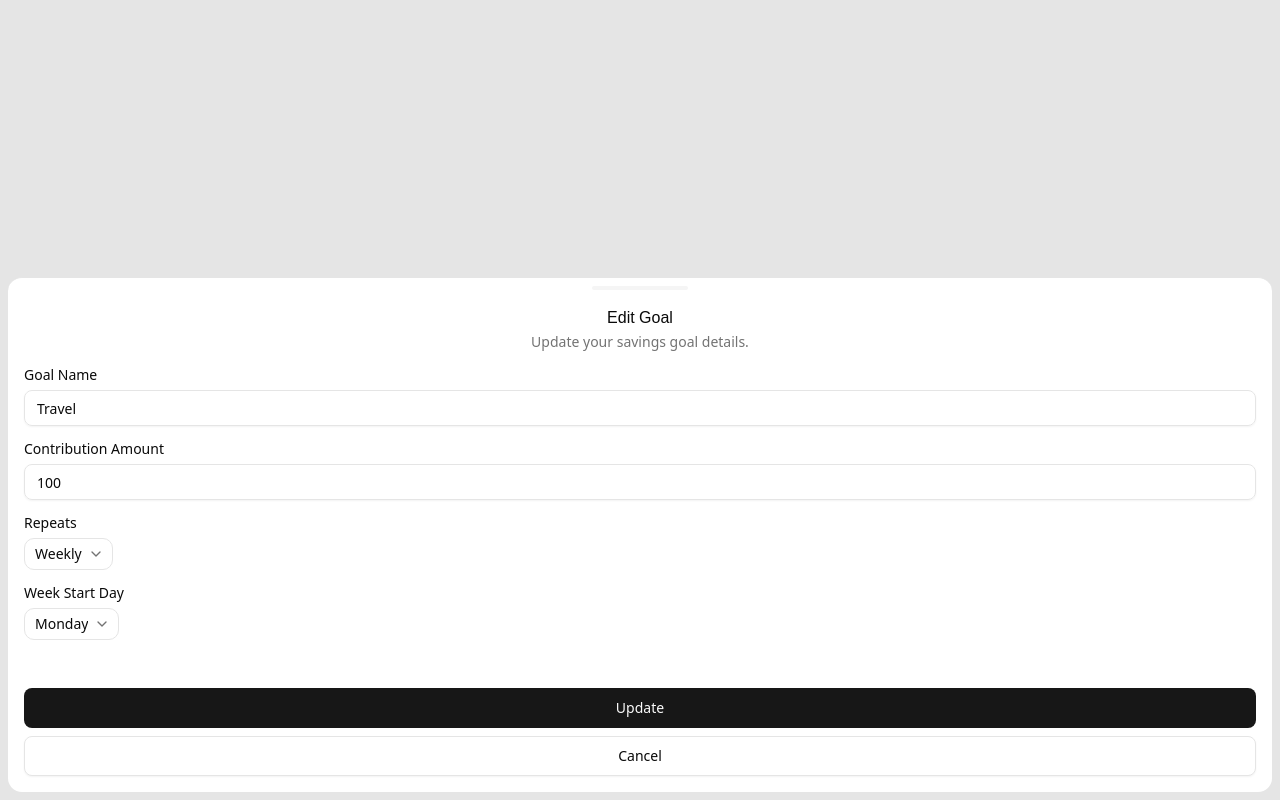
it: GoalDrawer › reports a validation failure instead of doing nothing
Step 1. Clear the field labelled "Goal Name" → (640, 408), box x1=24 y1=390 x2=1256 y2=426
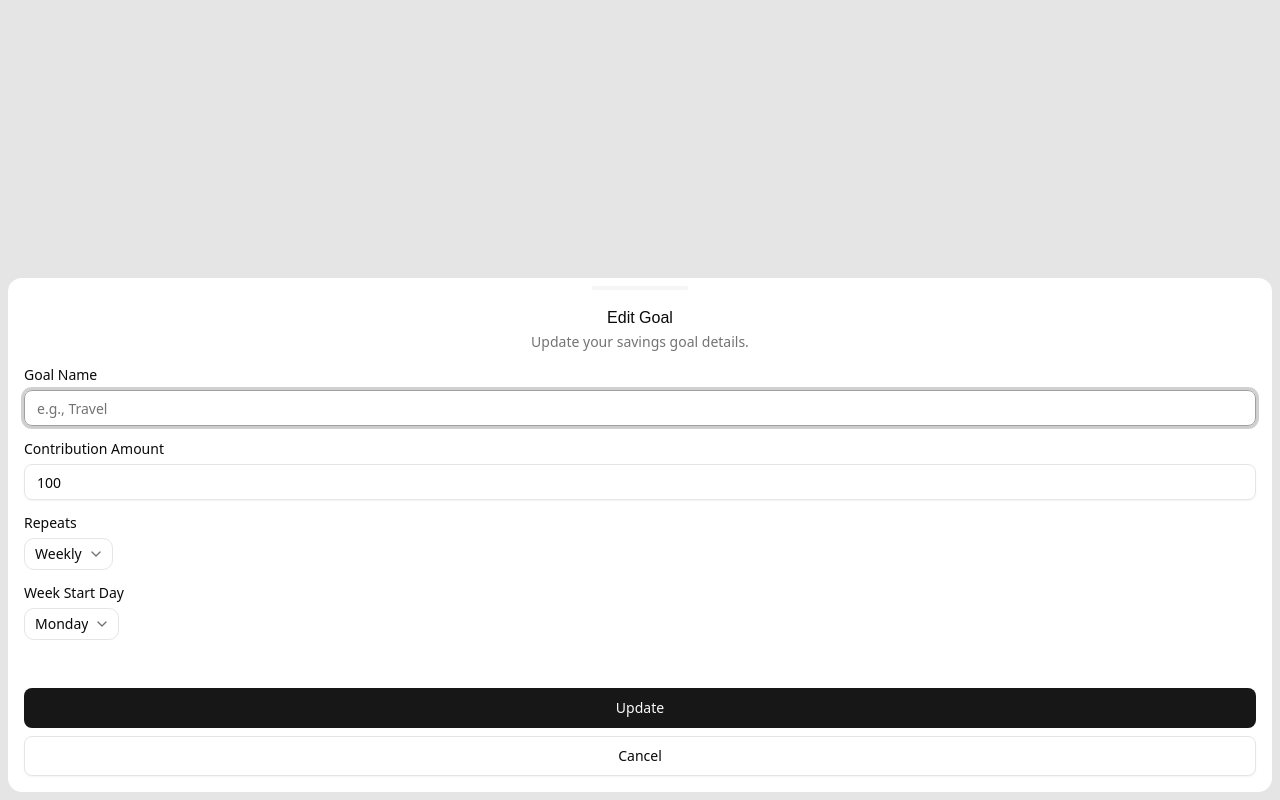
Step 2. Click the button "Update" → (640, 708), box x1=24 y1=688 x2=1256 y2=728
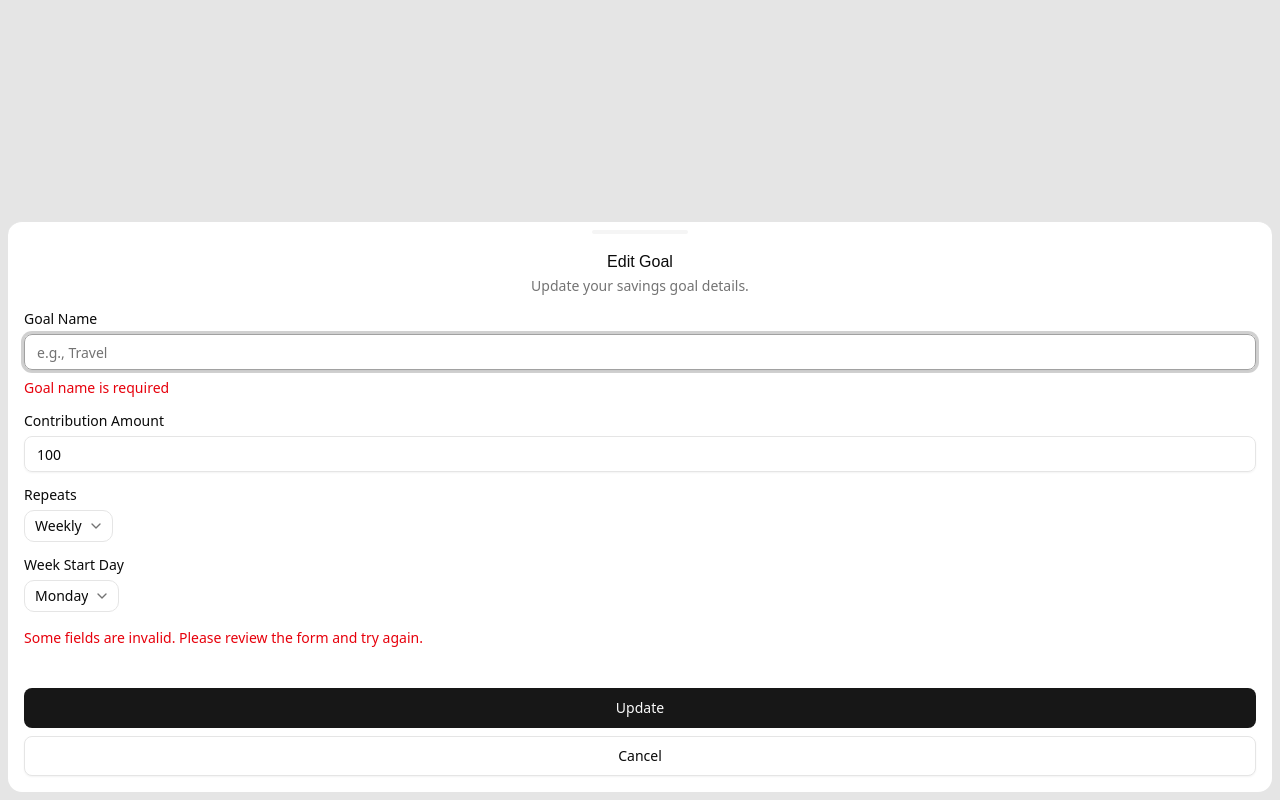
Now the text "Some fields are invalid. Please review the form and try again." is shown, box x1=24 y1=628 x2=423 y2=647
